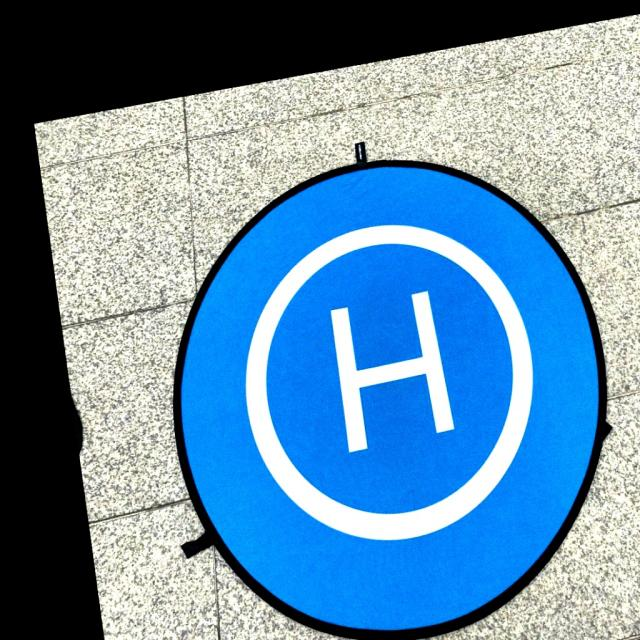helipad: (234, 218, 539, 548)
